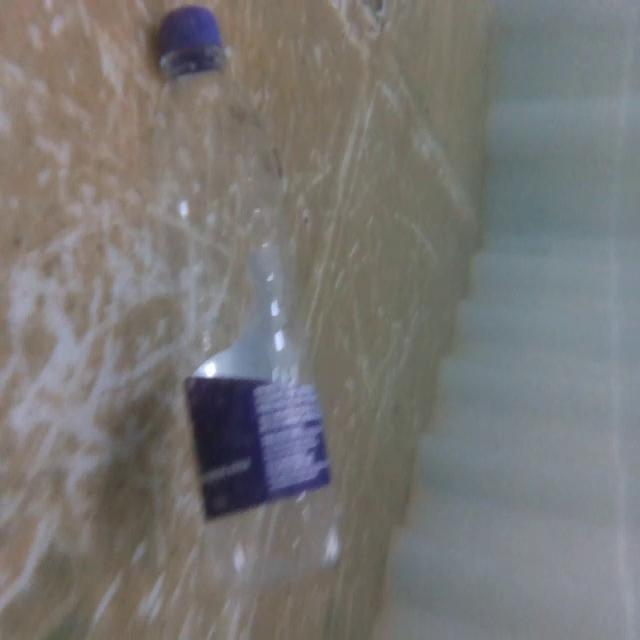plastic bottle: (114, 0, 349, 611)
